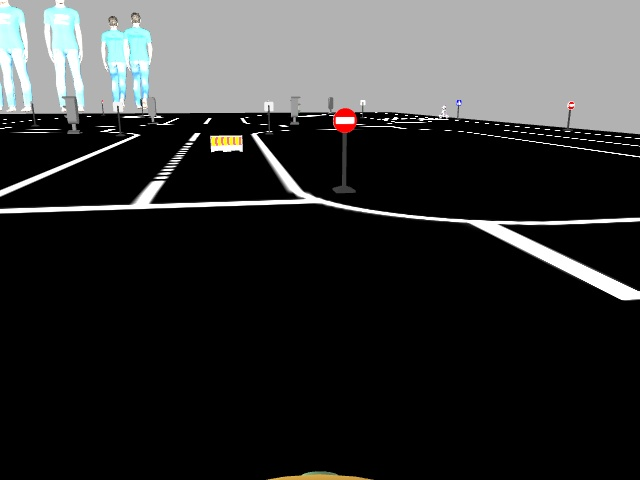ClosedRoadStand: (212, 136, 243, 151)
NoEntry: (333, 109, 355, 131)
